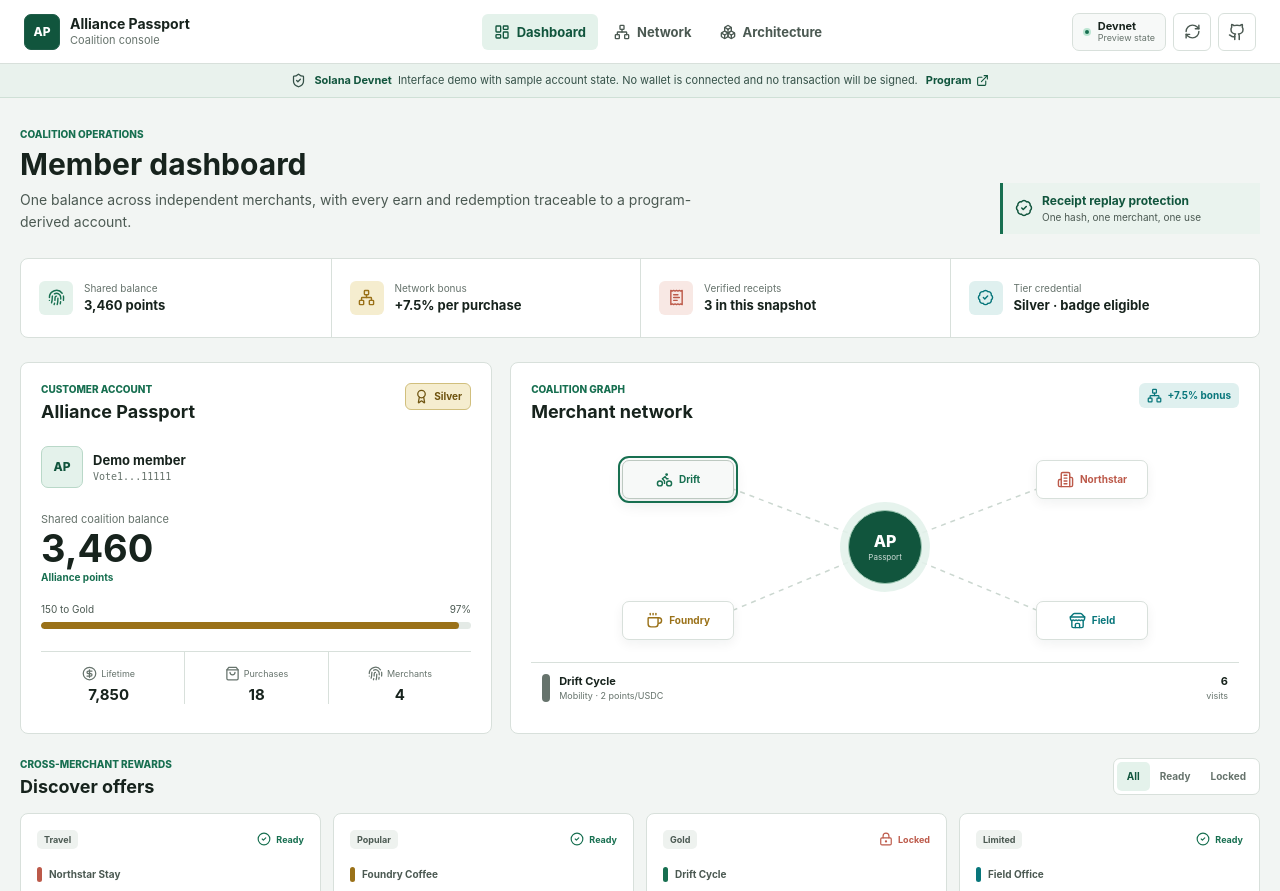
Test: Alliance Passport app › switches to the deterministic architecture inspector
The width and height of the screenshot is (1280, 891).
Click the button "Architecture": [771, 32] box [708, 14, 834, 50]
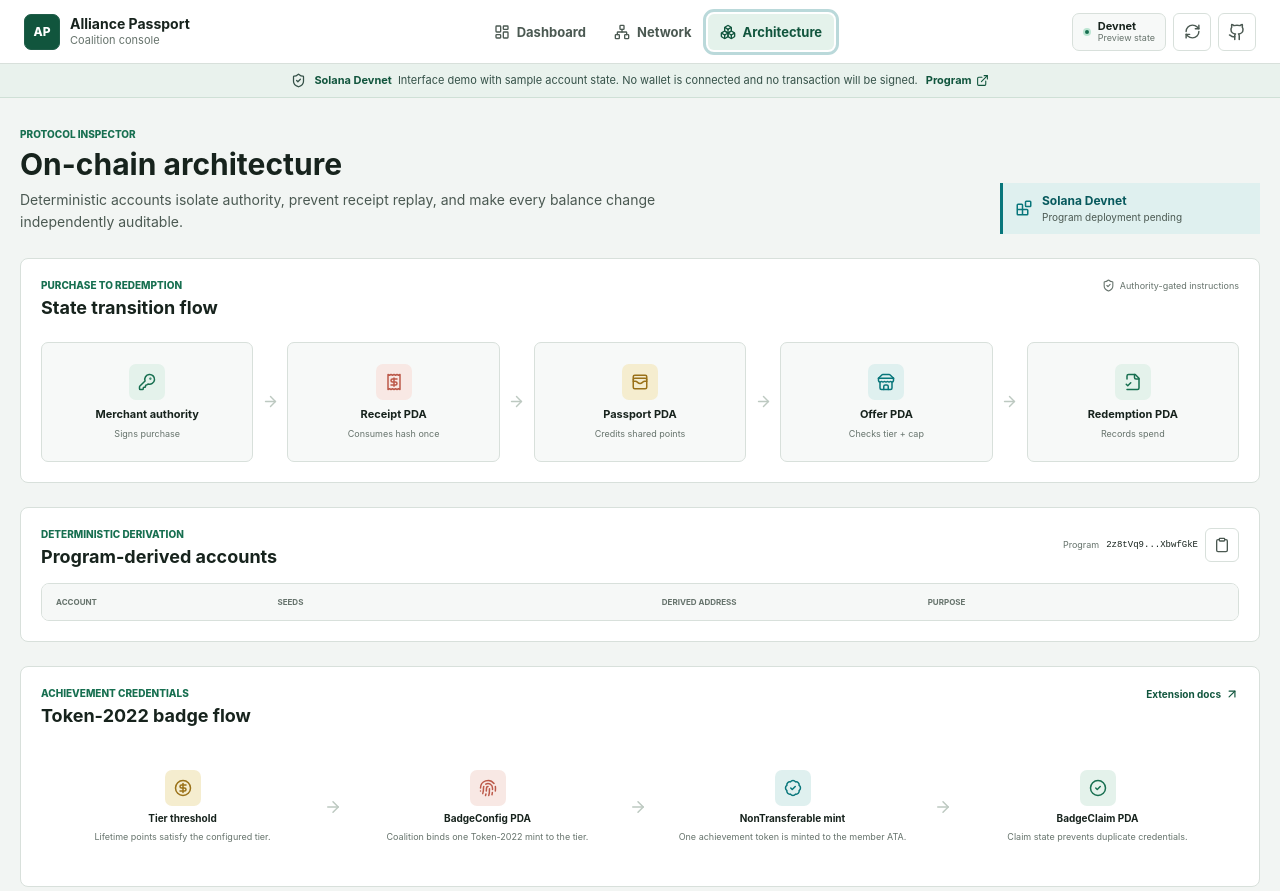
Now the heading "On-chain architecture" is shown, box [20, 146, 342, 182]
Now the heading "Program-derived accounts" is shown, box [41, 546, 277, 569]
Now the text "NonTransferable mint" is shown, box [740, 812, 845, 824]
